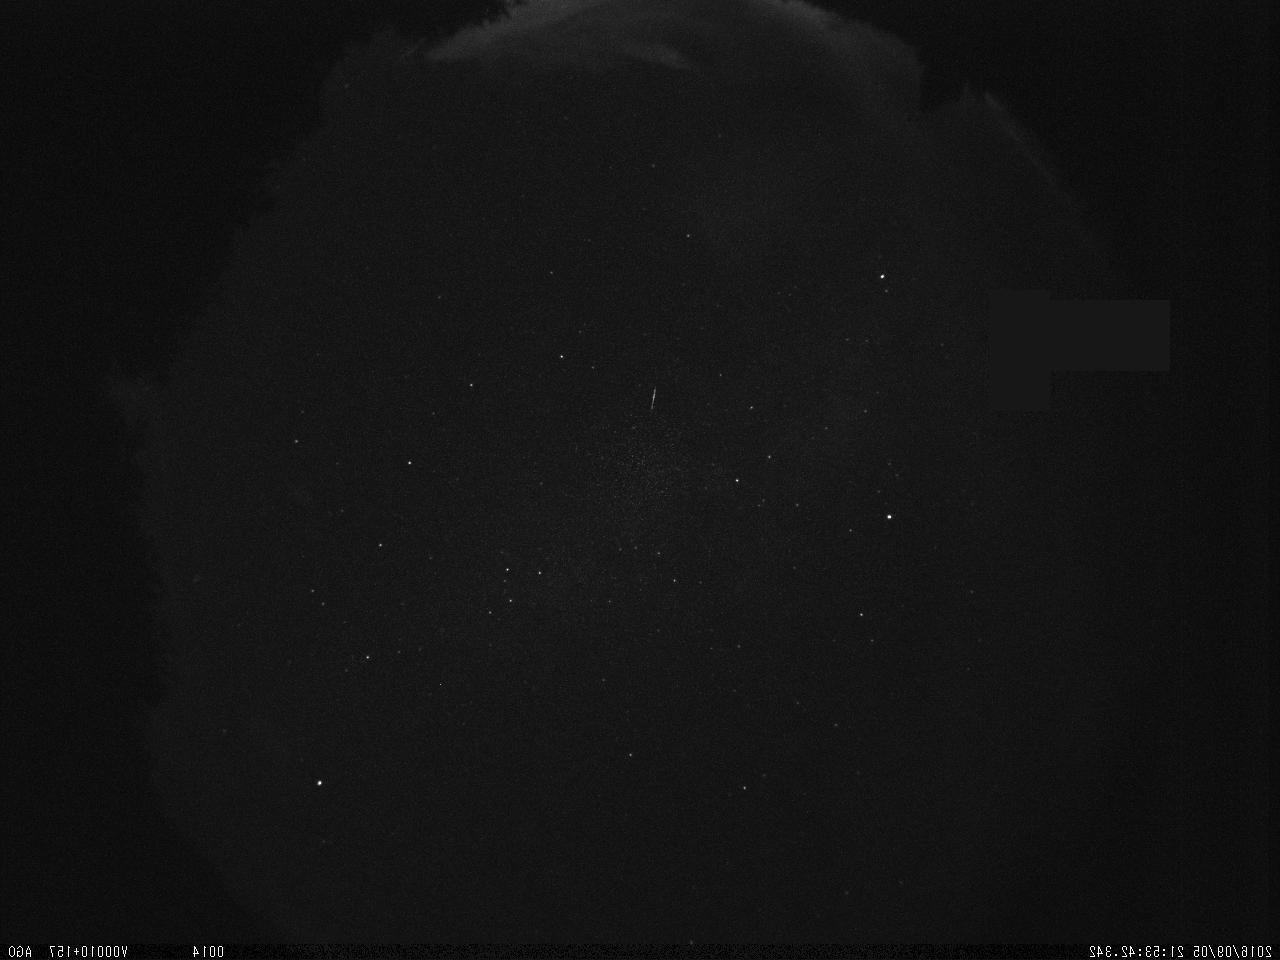meteor: (640, 383, 664, 416)
